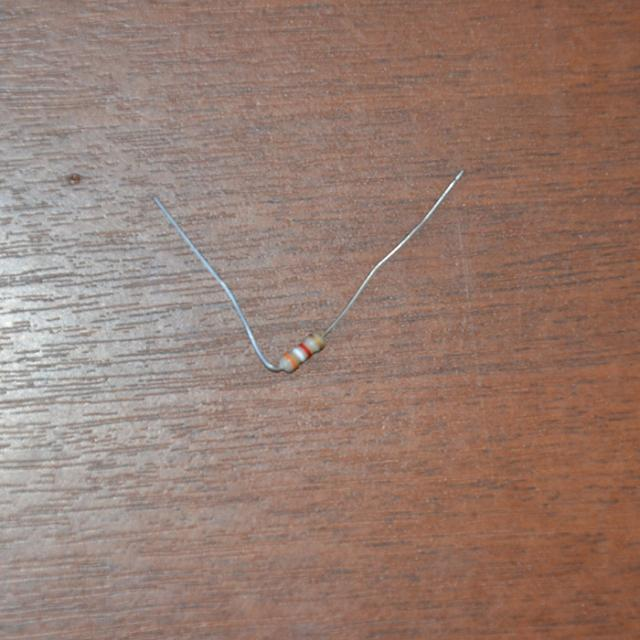gold: (309, 334, 323, 348)
orange: (282, 355, 297, 367)
red: (300, 342, 311, 354)
resistor: (271, 321, 334, 379)
white: (294, 349, 305, 360)
